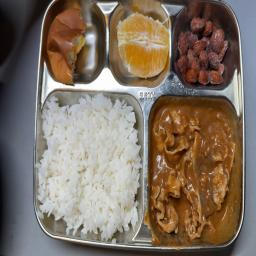100_beef: (151, 105, 232, 237)
100_nuts: (175, 19, 228, 85)
100_orange: (110, 6, 170, 79)
100_rice: (40, 90, 139, 237)
50_bread: (44, 0, 100, 83)
